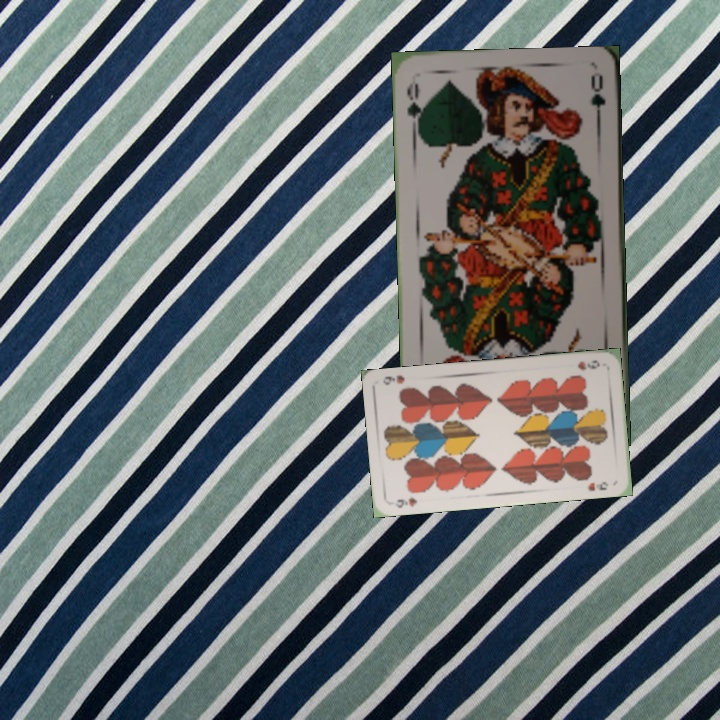GO: (402, 76, 427, 135)
H9: (574, 356, 602, 373), (392, 493, 419, 510)
